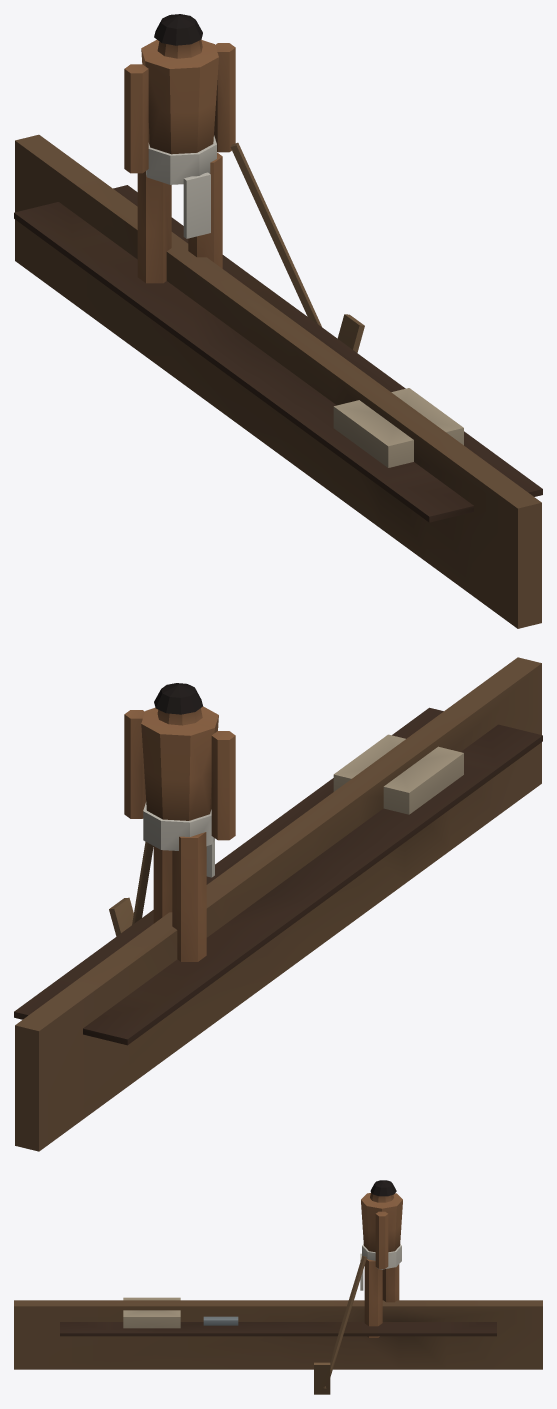
File: skiff.glb
The picture shows the model from 3 angles, top to bottom: view 1: azimuth 30°, elevation 25°; view 2: azimuth 150°, elevation 25°; view 3: azimuth 270°, elevation 25°; orthographic projection. The views are drawn at different scales.
Visible parts, largest first — view 1: base; view 2: base; view 3: base.
Boxes of the visible parts, box(x1,y1,x2,y2) form: base: box(14, 14, 542, 628); base: box(14, 657, 542, 1151); base: box(14, 1180, 542, 1394).
Size of the model in its own units: 0.9361 by 1.8 by 4.6.
